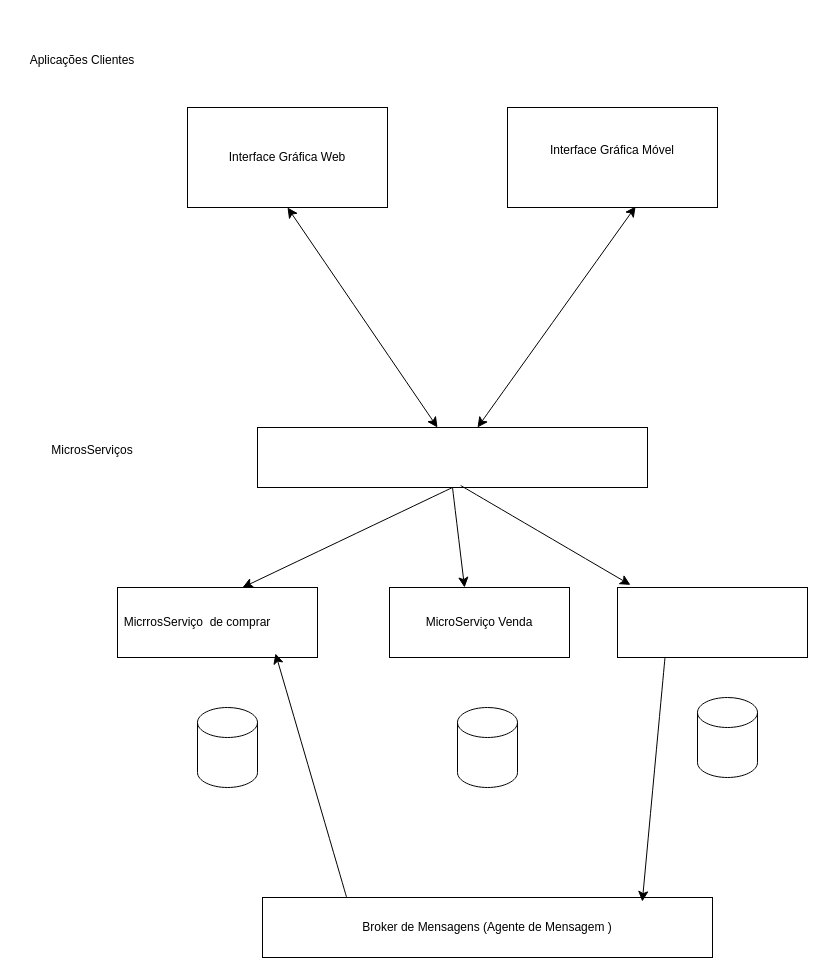
The diagram is 825 pixels wide and 975 high, and some of its shapes have lost their labels. Here are the shapes that lost their labels. From the top down, the centre of each, then its label:
[452,457]: API Gatewar
[712,622]: MicrosServiço Envio
